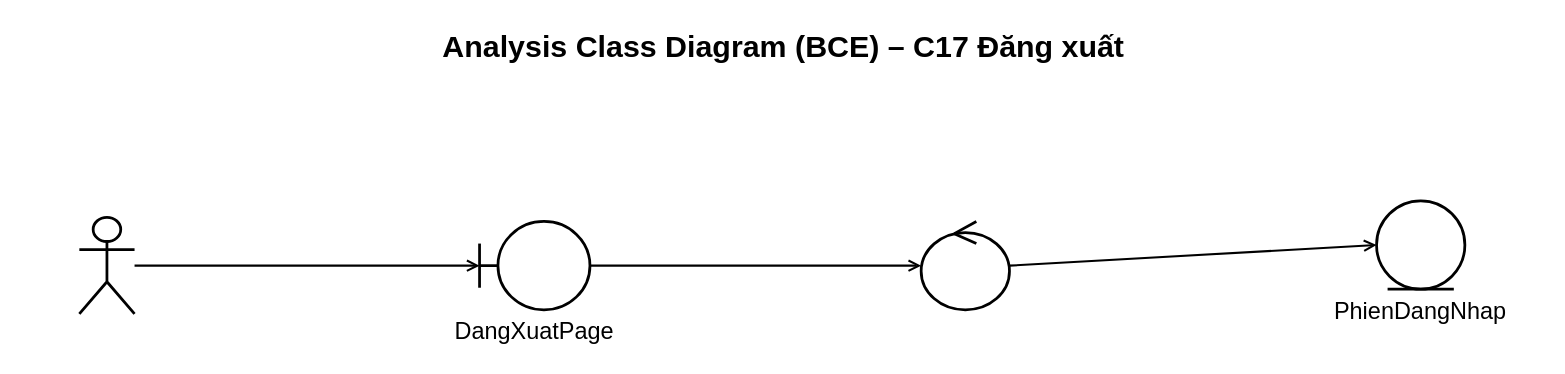
This 1565x374 diagram has some shape labels left out. The box of each missing label's shape, as (x1, y1, x2, y2) in pixels:
DangXuatController: (919, 219, 1010, 310)
Khách hàng: (77, 215, 135, 315)
